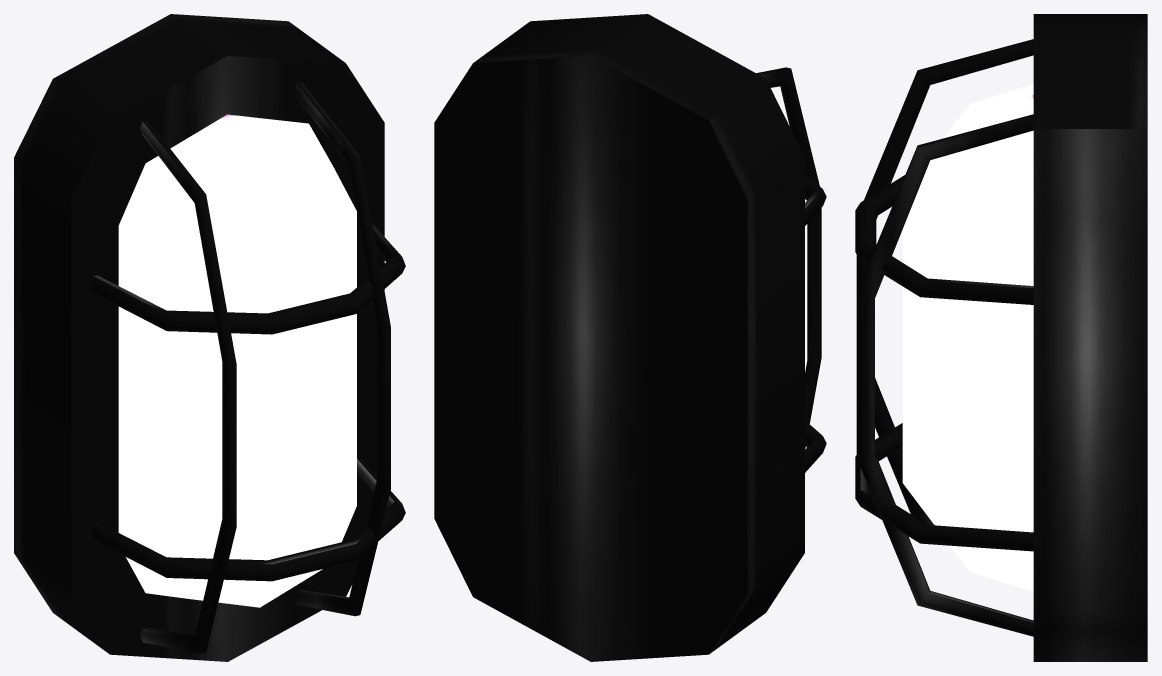
File: wall_lightA.fbx
3 renders of one model, left to right at view 1: azimuth 30°, elevation 25°; view 2: azimuth 150°, elevation 25°; view 3: azimuth 270°, elevation 25°, orthographic.
Parts seen in each view (by area): view 1: wall_lightB; view 2: wall_lightB; view 3: wall_lightB.
Part boxes in pixels (x1=…): wall_lightB: x1=14, y1=14, x2=405, y2=661; wall_lightB: x1=434, y1=14, x2=826, y2=661; wall_lightB: x1=855, y1=14, x2=1147, y2=661.
Size of the model in its own units: 16.44 by 30.39 by 13.32.
Materials: 1 (1 with a texture image).
